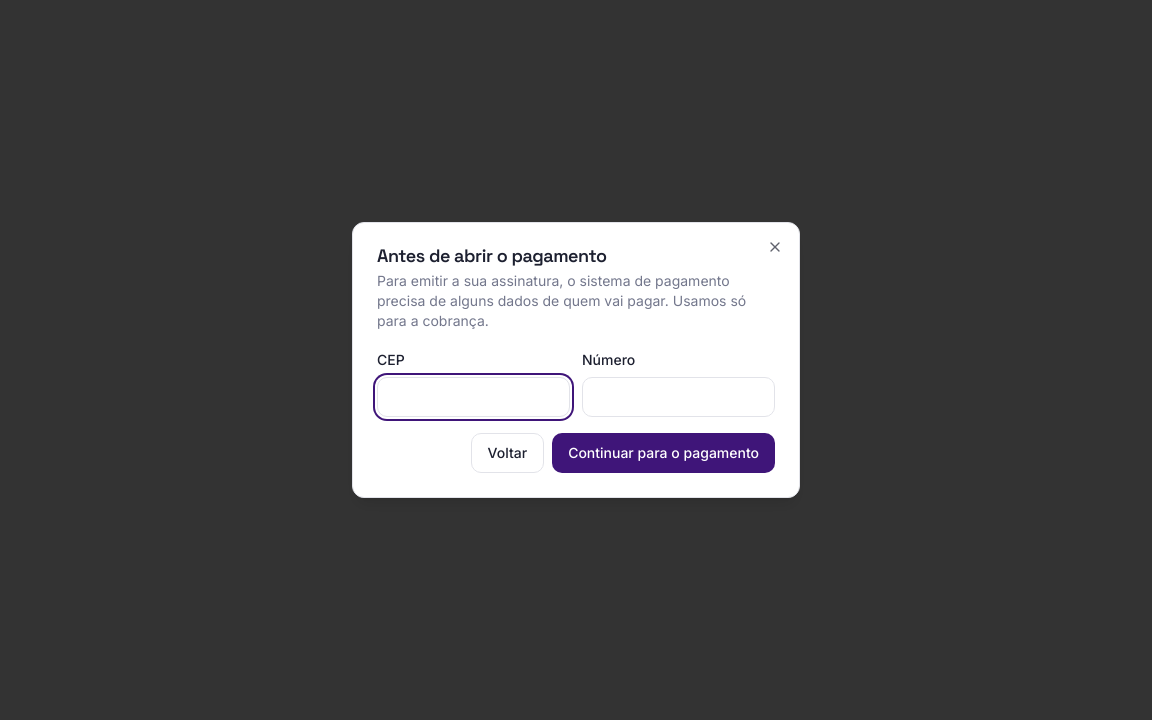
billing dialog › network failure reveals manual fields
The width and height of the screenshot is (1152, 720).
Type "01310100" into the field labelled "CEP".
click(474, 397); type("01310100")  # box [377,377,570,417]
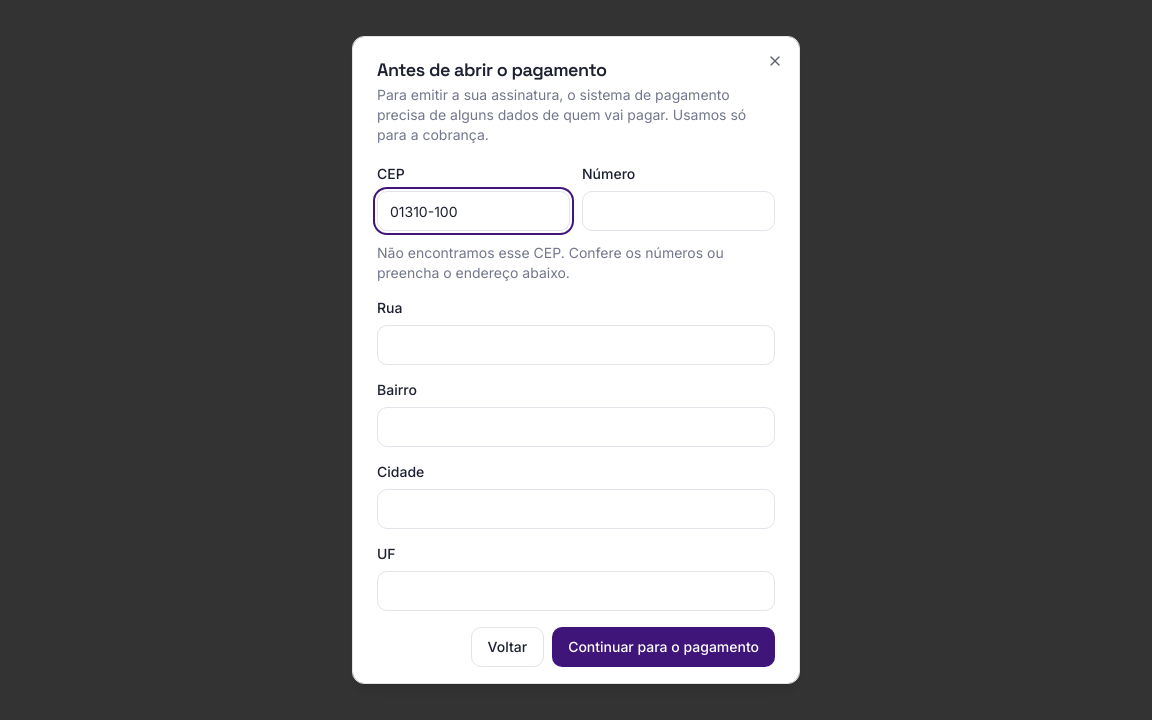
Result: the field labelled "Rua" is shown at [377,325,775,365]
